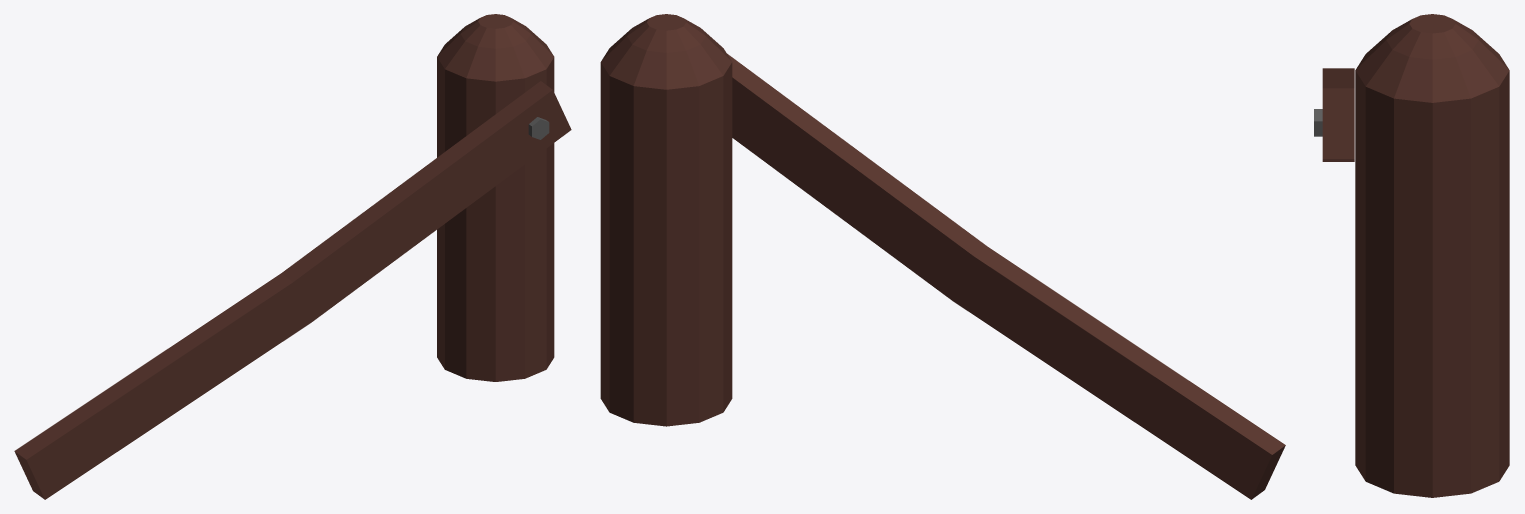
File: fence_variation4.fbx
3 views of the same model, side by side, from view 1: azimuth 30°, elevation 25°; view 2: azimuth 150°, elevation 25°; view 3: azimuth 270°, elevation 25° (orthographic). The views are drawn at different scales.
Visible parts, largest first — view 1: Cylinder; view 2: Cylinder; view 3: Cylinder.
Boxes of the visible parts, left/top/right/bottom form: Cylinder: left=14, top=14, right=571, bottom=499; Cylinder: left=600, top=14, right=1285, bottom=499; Cylinder: left=1314, top=14, right=1509, bottom=497.
Bounding box in the file's own units: 442 × 254 × 102.
